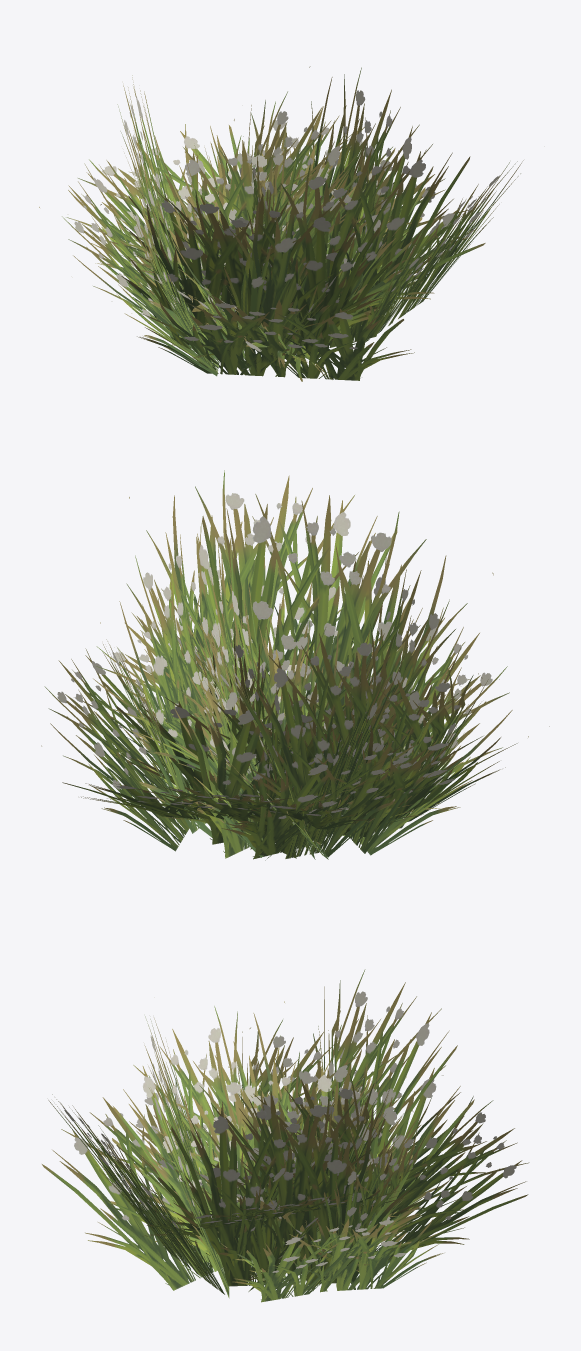
File: ArbustoFlorido.fbx
The picture shows the model from 3 angles, top to bottom: view 1: azimuth 30°, elevation 25°; view 2: azimuth 150°, elevation 25°; view 3: azimuth 270°, elevation 25°; orthographic projection. The views are drawn at different scales.
Parts seen in each view (by area): view 1: ArbustoFlorido; view 2: ArbustoFlorido; view 3: ArbustoFlorido.
Part boxes in pixels (<box>): ArbustoFlorido: <box>39,66,523,381</box>; ArbustoFlorido: <box>41,470,549,860</box>; ArbustoFlorido: <box>42,969,529,1302</box>.
Size of the model in its own units: 2.43 by 1.41 by 2.51.
1 material, 1 textured.
